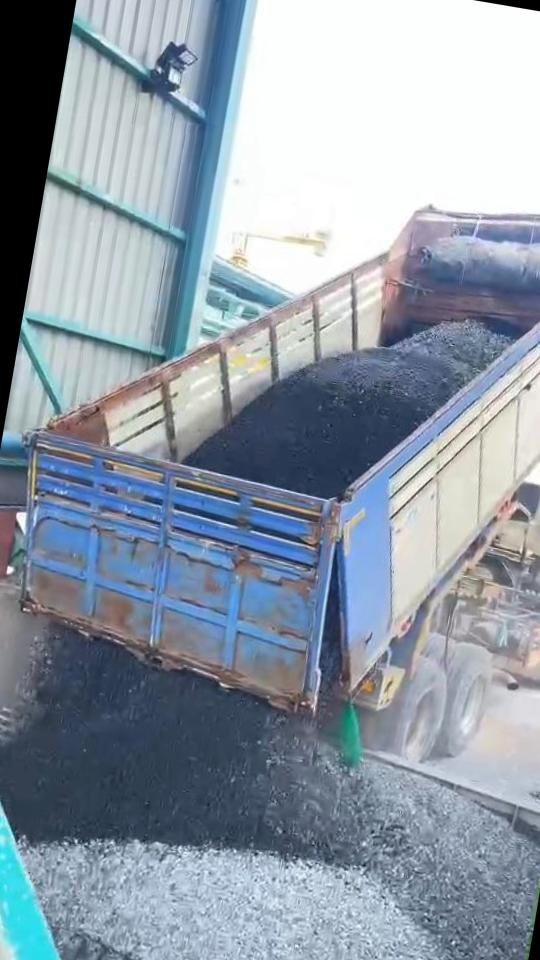gravel: (0, 632, 540, 960), (185, 321, 511, 497), (319, 589, 340, 694)
